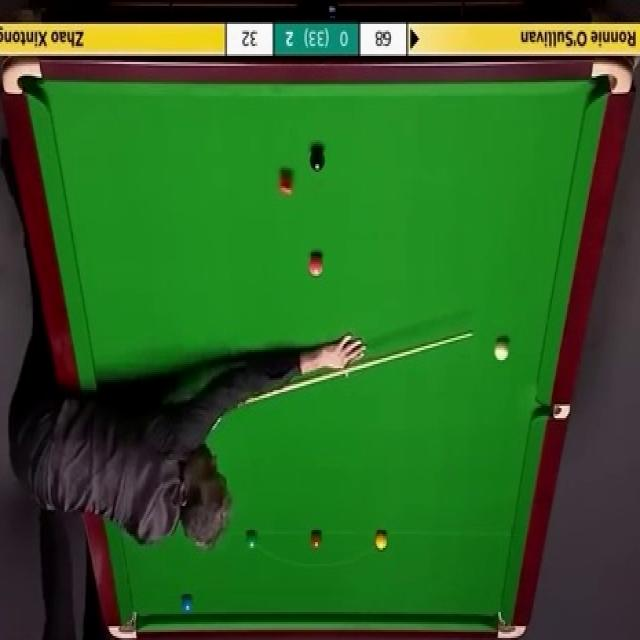black-ball: (309, 147, 325, 173)
blue-ball: (180, 594, 194, 613)
brown-ball: (310, 531, 323, 548)
green-ball: (244, 528, 258, 552)
pink-ball: (308, 250, 324, 278)
red-ball: (279, 171, 294, 198)
white-ball: (493, 336, 510, 364)
yellow-ball: (374, 530, 388, 551)
